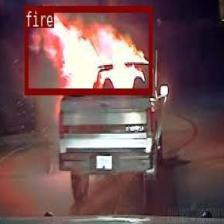fire: (24, 5, 152, 93)
